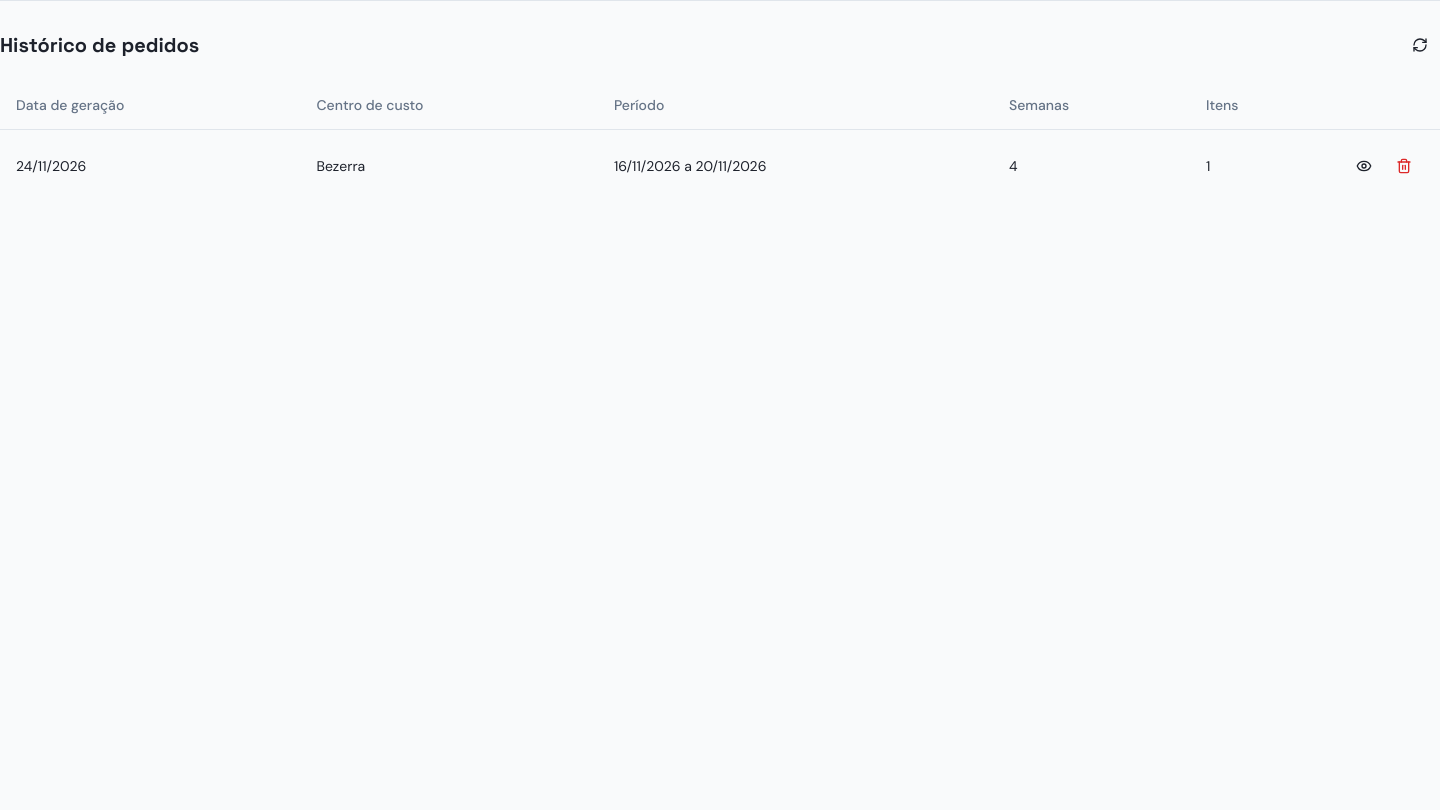
Test case: exclusão de pedidos exclusiva para Master › erro mantém o pedido e a confirmação abertos
Click the button named "Excluir pedido o1": (1404, 166) [1384,146,1424,186]
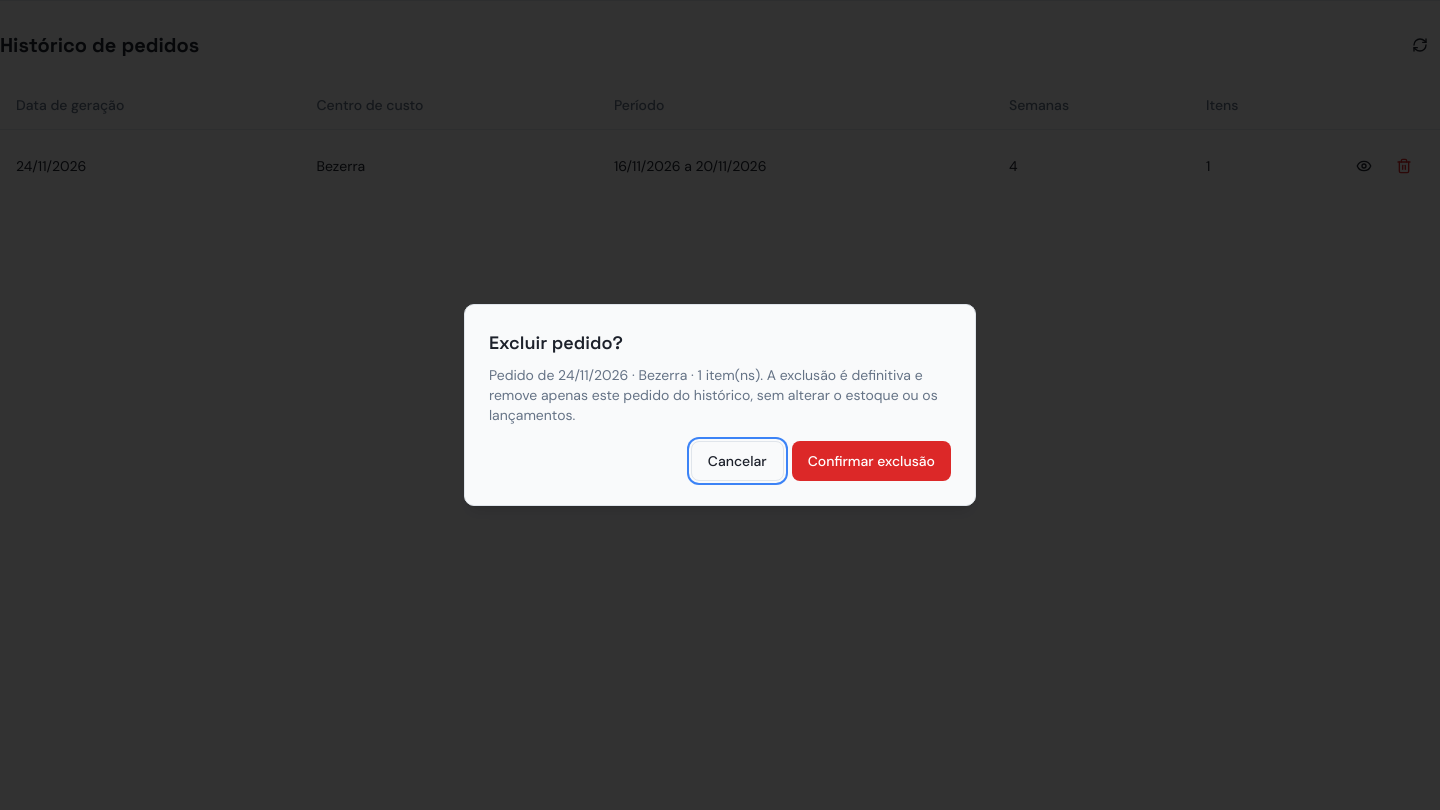
Click the button "Confirmar exclusão": (871, 461) [792,441,951,481]
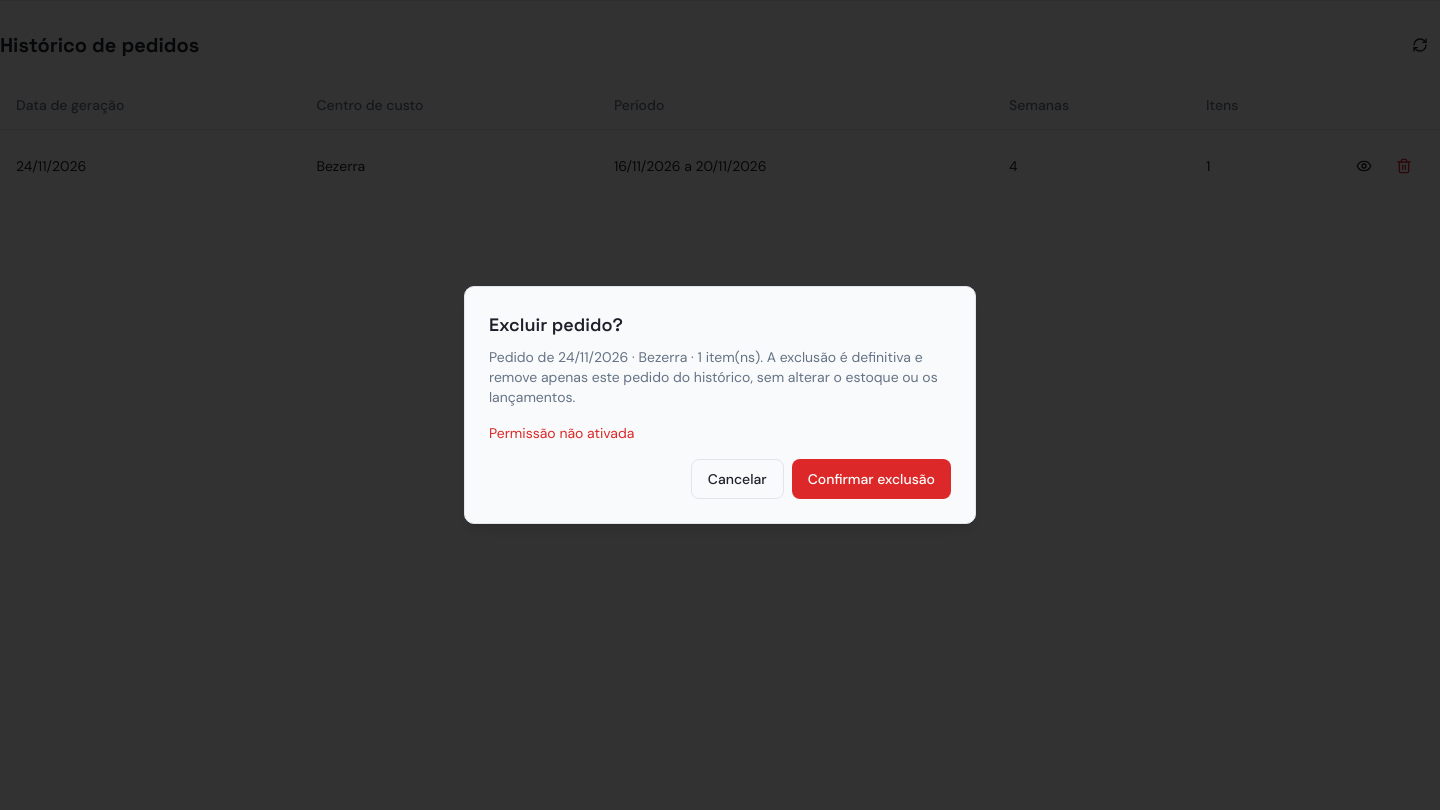
Expected: the button named "Consultar pedido o1" is shown, [1344,146,1384,186]
Expected: the dialog is shown, [464,286,976,524]
Expected: the message reads "Permissão não ativada", [489,424,634,442]
